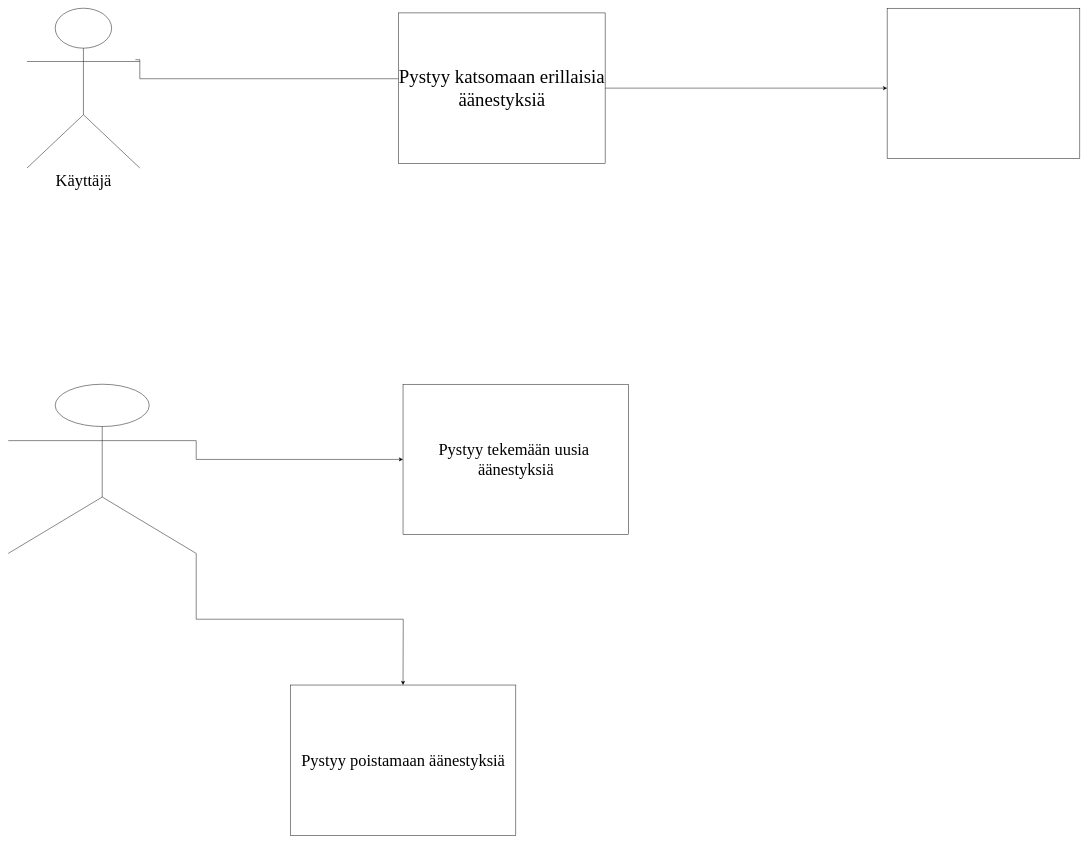
The diagram is 1088 pixels wide and 844 high, and some of its shapes have lost their labels. The centre of each missing label's shape, as x and y in pixels:
Pystyy äänestämään: the point at 983,83
Ylläpitäjä: the point at 102,468
